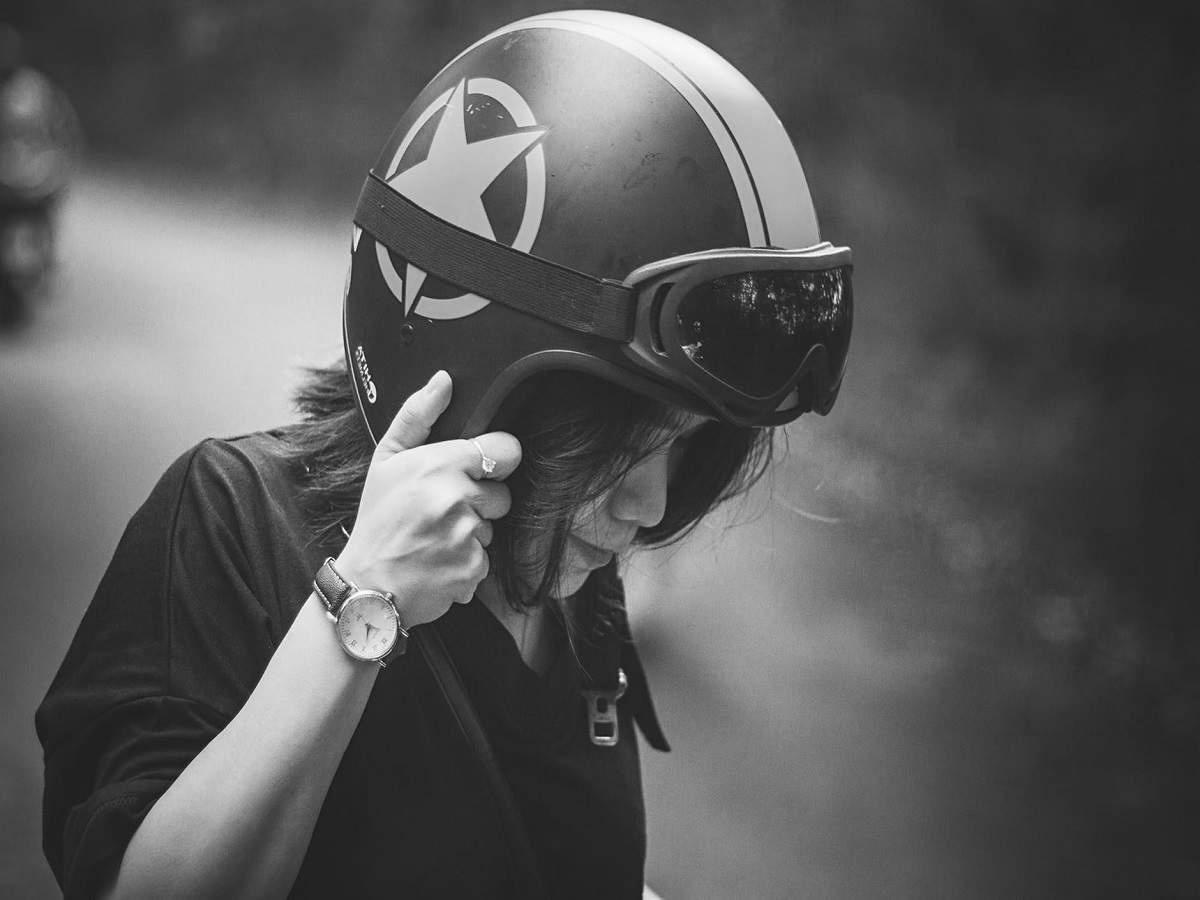Helmet: (343, 12, 852, 625)
